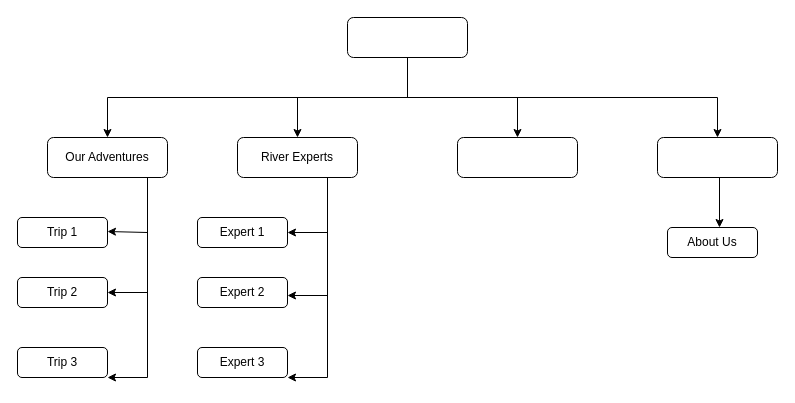
Some shapes in this 795 by 403 pixel diagram are drawn without their labels. The shapes that lost their labels are listed below. From the top down, each one's centre as x and y in pixels, then its label:
At point 407,37: "Home".
At point 517,157: "Reservations".
At point 717,157: "Contact Us".
